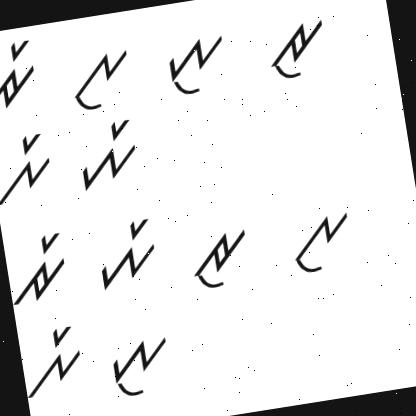lar: (17, 322, 90, 400), (0, 129, 58, 208)
law: (281, 202, 358, 279), (62, 42, 138, 116)
rar: (4, 228, 72, 309), (0, 34, 43, 114)
raw: (260, 6, 336, 85), (188, 223, 258, 294)
yar: (69, 116, 146, 196), (88, 212, 162, 292)
yaw: (98, 322, 176, 406), (162, 30, 234, 100)
